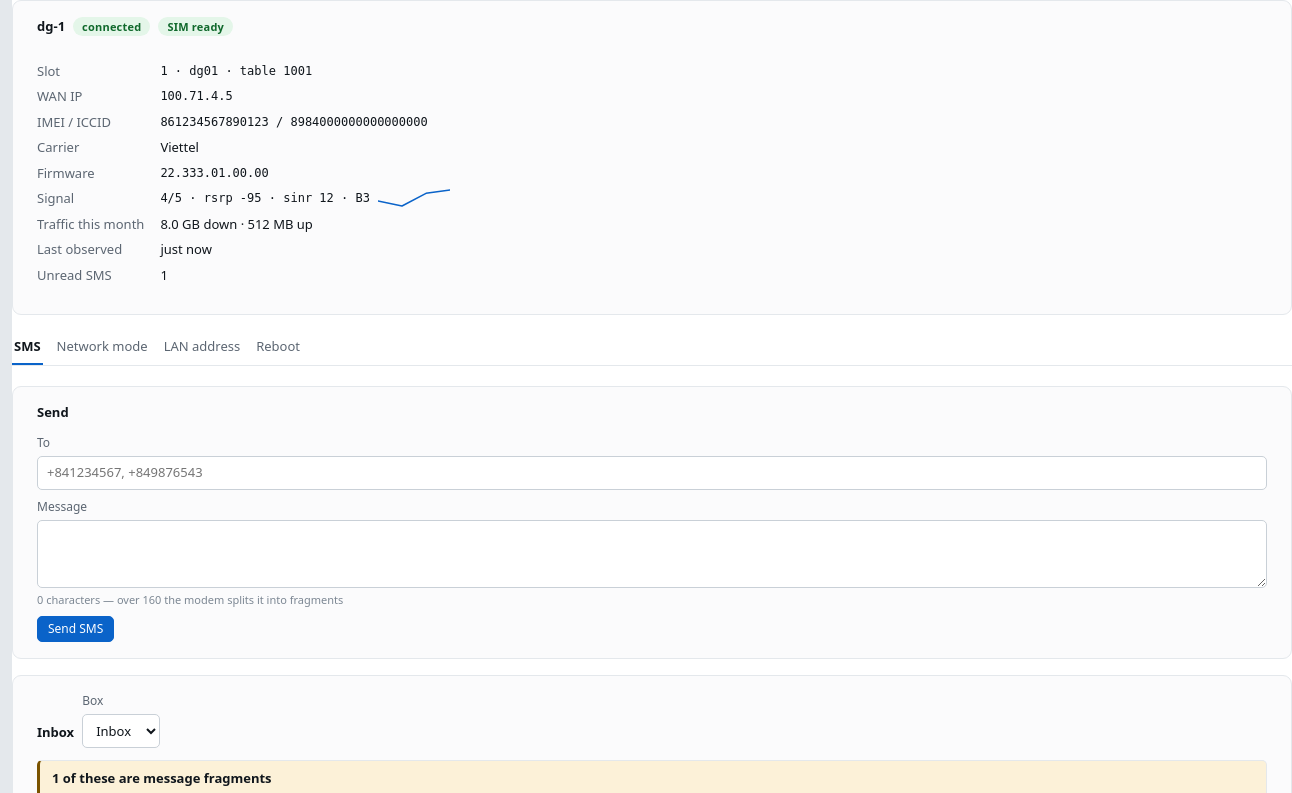
Scenario: SMS inbox › sends a message through the contract shape
The image size is (1292, 793).
Expected: the tab "SMS" is shown, [12,331,43,364]
Type "+84900000009" into the field labelled "To". click: (652, 473)
box: [37,456,1267,490]
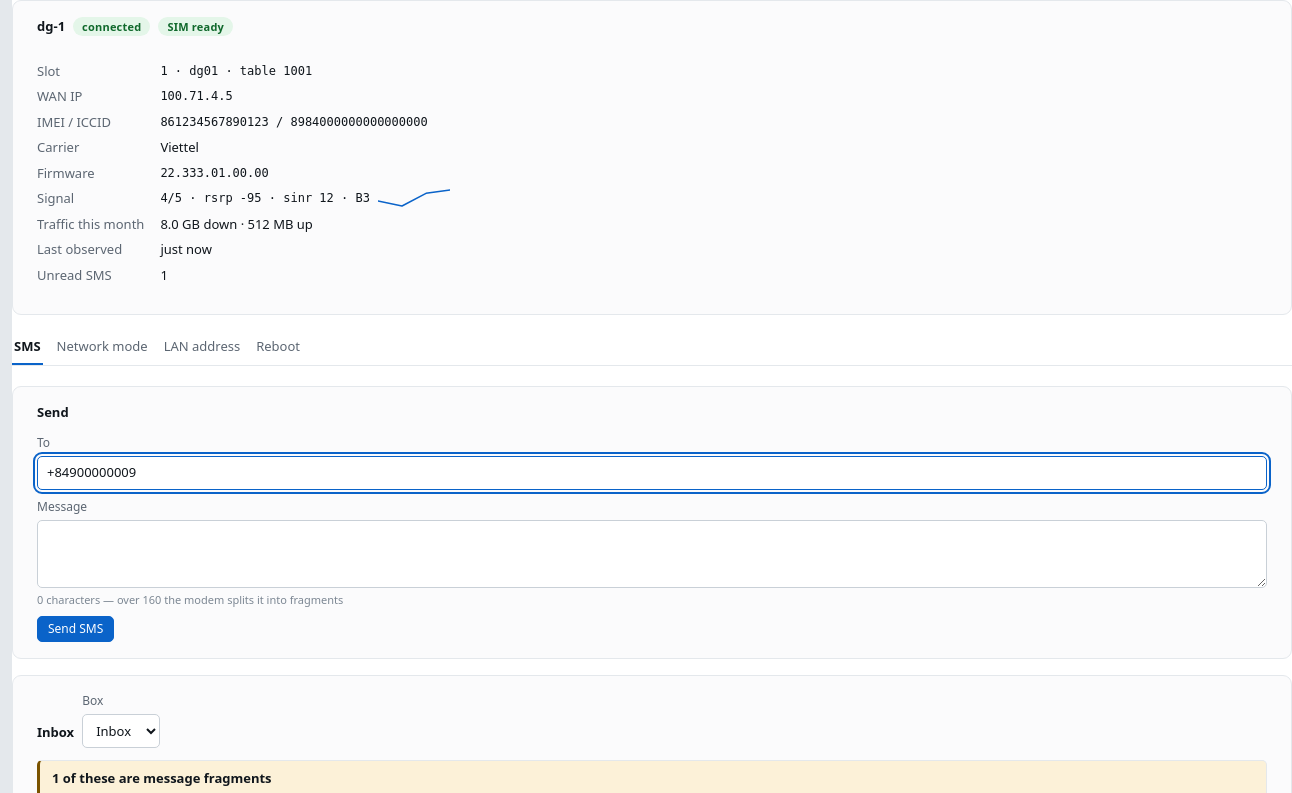
Type "test from the panel" into the text box labelled "Message". click: (652, 554)
box: [37,520,1267,588]
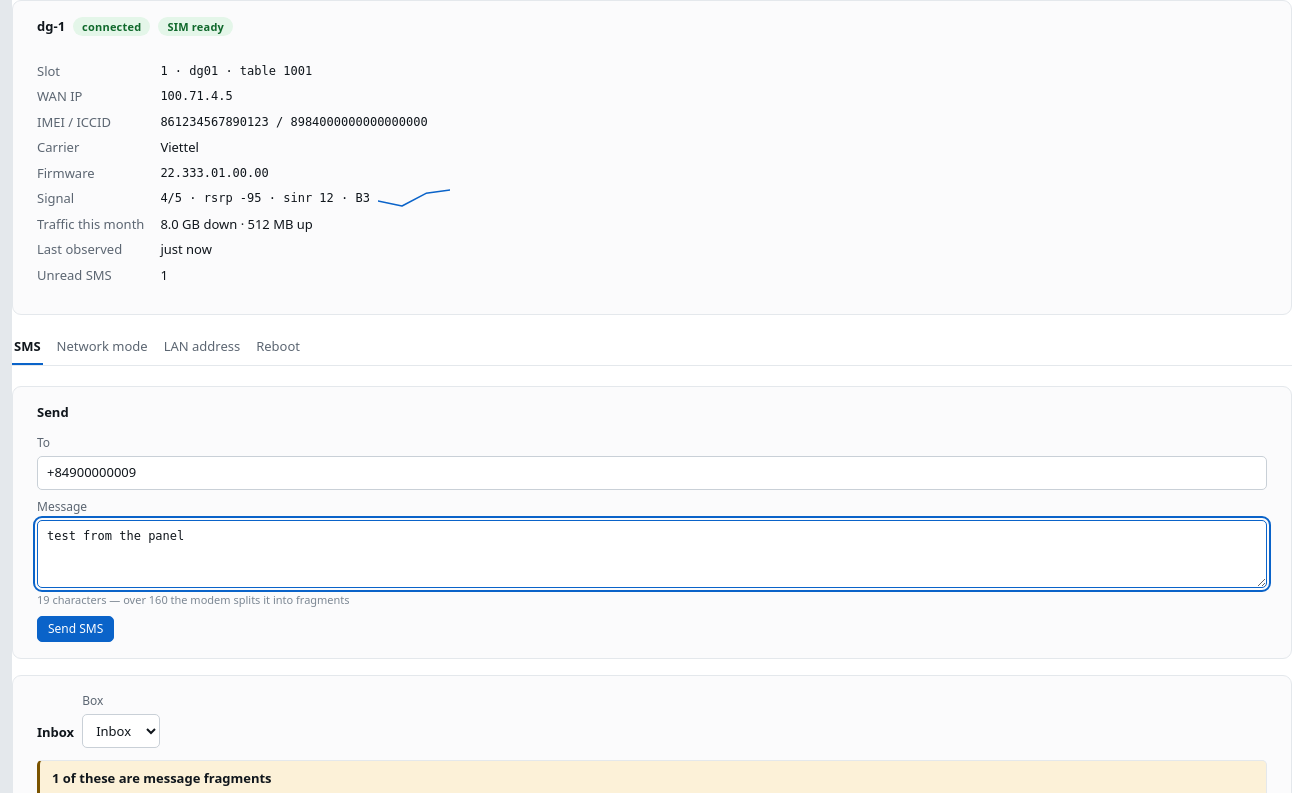
Click the button "Send SMS". click: (76, 629)
box: [37,616,114,642]
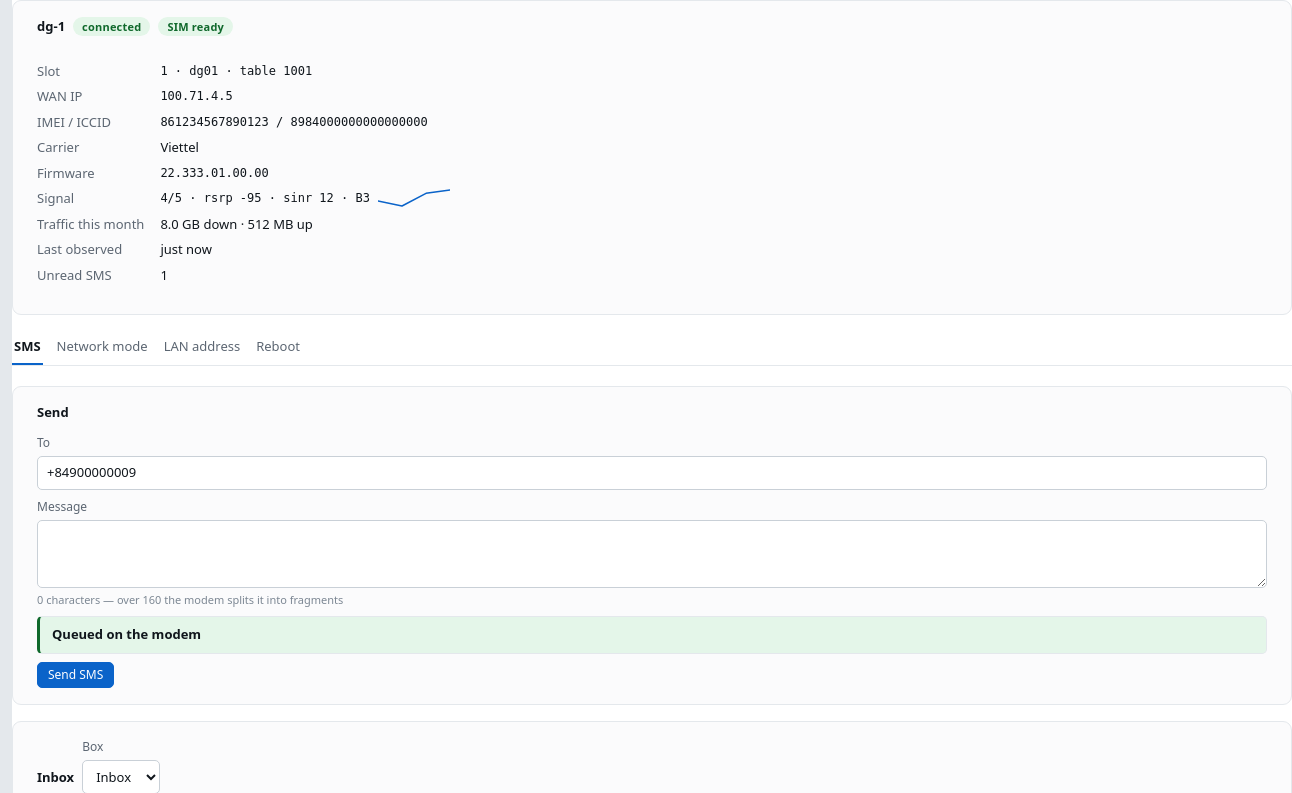
Expected: the text "Queued on the modem" is shown, [52,625,201,643]
